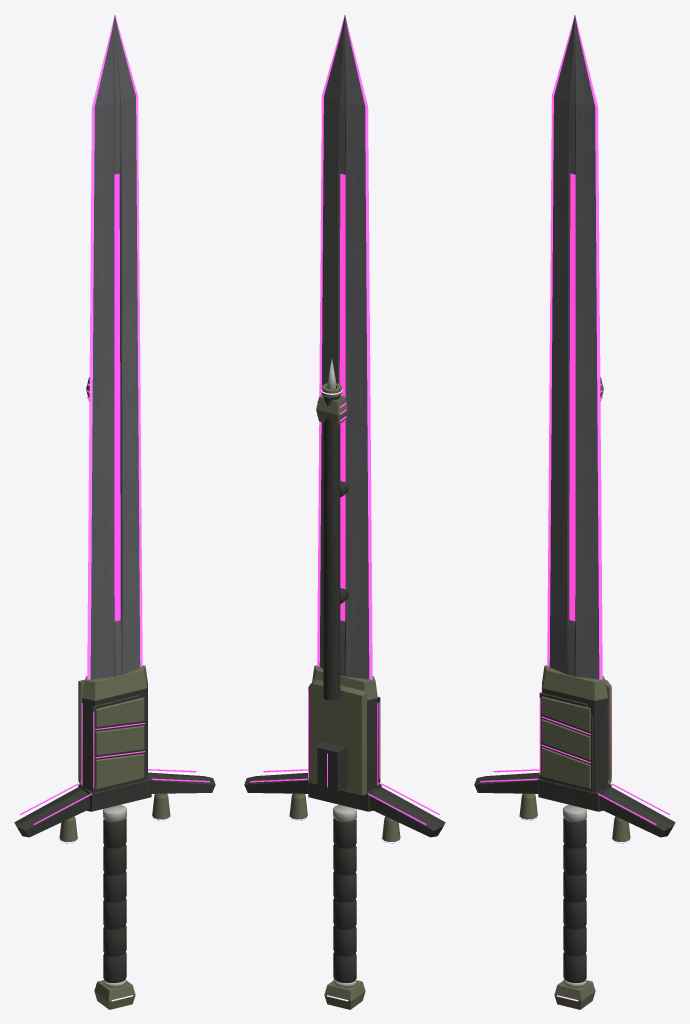
3 views of the same model, side by side, from view 1: azimuth 30°, elevation 25°; view 2: azimuth 150°, elevation 25°; view 3: azimuth 330°, elevation 25° (orthographic).
Visible parts, largest first — view 1: kat_blade_olive, kat_dark_olive, kat_plate_olive, glow_kat_edge_magenta, glow_kat_line_magenta, kat_shin_olive; view 2: kat_blade_olive, kat_dark_olive, kat_plate_olive, glow_kat_edge_magenta, glow_kat_line_magenta, kat_shin_olive, kat_pale_olive; view 3: kat_blade_olive, kat_dark_olive, kat_plate_olive, glow_kat_edge_magenta, glow_kat_line_magenta, kat_shin_olive.
Part boxes in pixels (x1=…): kat_blade_olive: x1=90, y1=15, x2=140, y2=679; kat_dark_olive: x1=14, y1=682, x2=215, y2=982; kat_plate_olive: x1=59, y1=377, x2=170, y2=1009; glow_kat_edge_magenta: x1=87, y1=16, x2=142, y2=679; glow_kat_line_magenta: x1=20, y1=173, x2=209, y2=824; kat_shin_olive: x1=114, y1=16, x2=122, y2=676; kat_blade_olive: x1=319, y1=15, x2=369, y2=679; kat_dark_olive: x1=244, y1=386, x2=445, y2=982; kat_plate_olive: x1=289, y1=383, x2=400, y2=1009; glow_kat_edge_magenta: x1=317, y1=16, x2=372, y2=679; glow_kat_line_magenta: x1=250, y1=173, x2=439, y2=824; kat_shin_olive: x1=338, y1=16, x2=345, y2=676; kat_pale_olive: x1=327, y1=358, x2=356, y2=987; kat_blade_olive: x1=549, y1=15, x2=599, y2=679; kat_dark_olive: x1=474, y1=682, x2=675, y2=982; kat_plate_olive: x1=519, y1=377, x2=630, y2=1009; glow_kat_edge_magenta: x1=547, y1=16, x2=602, y2=679; glow_kat_line_magenta: x1=480, y1=173, x2=669, y2=824; kat_shin_olive: x1=567, y1=16, x2=575, y2=676.
Size of the model in its own units: 0.424 by 2.04 by 0.0983.
8 materials, 5 textured.
